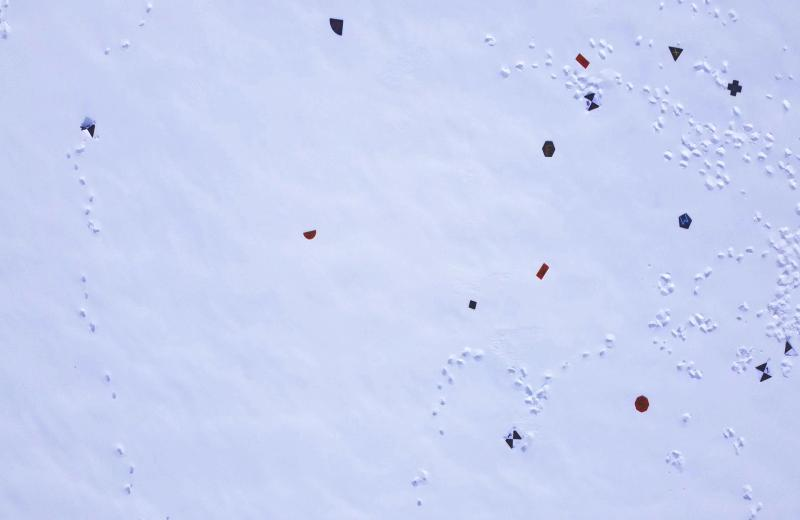Cross: (727, 78, 743, 96)
Hexagon: (540, 139, 556, 158)
Octagon: (634, 395, 649, 415)
Pentagon: (678, 212, 693, 231)
Quarter Circle: (328, 16, 346, 38)
Rectangle: (575, 52, 590, 70), (535, 262, 549, 280)
Semi Circle: (302, 229, 318, 242)
Square: (466, 298, 478, 311)
Triangle: (668, 42, 684, 62)
